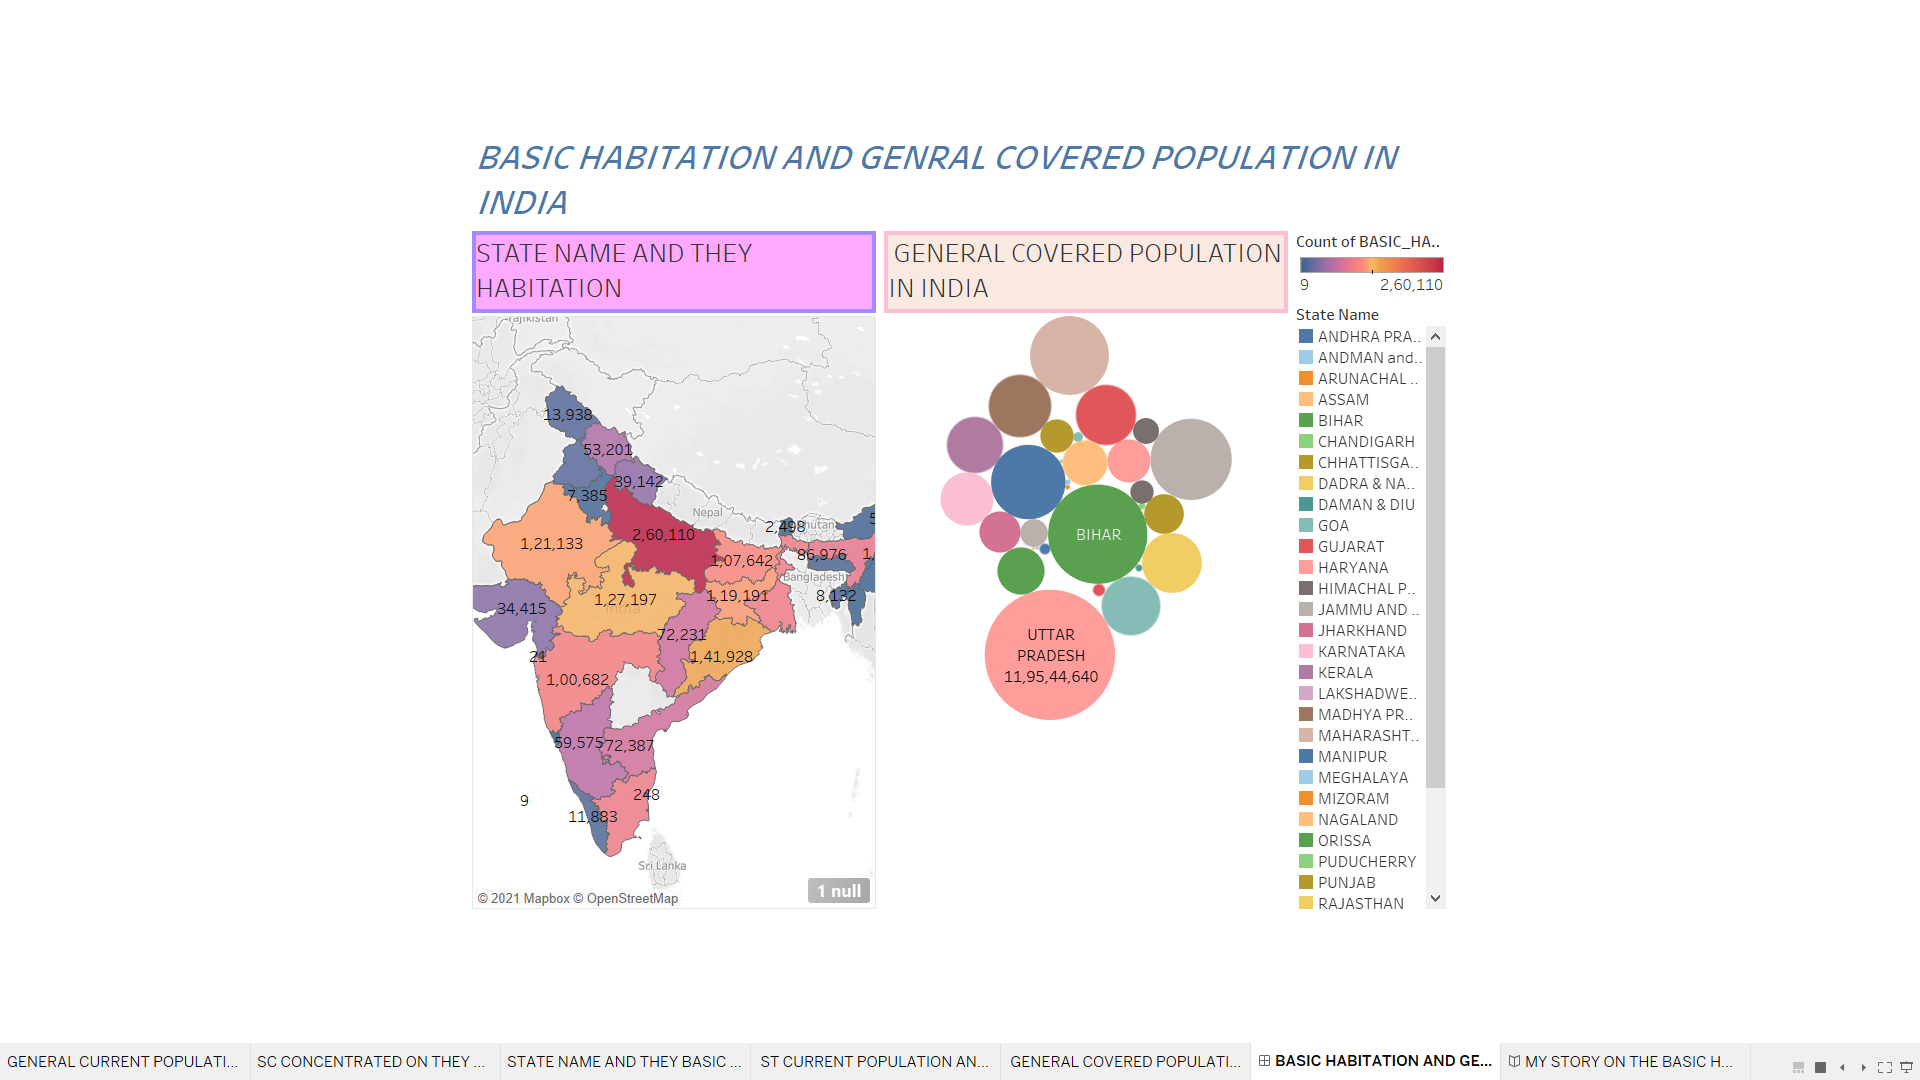

Layout of this report page (visuals, bound fields, positions):
{"tool":"tableau","page":{"name":"BASIC HABITATION AND GENERAL COVERED POPULATION IN INDIA","canvas":[1000,800],"ordinal":0},"visuals":[{"type":"worksheet","box":[0,0,1000,800]},{"type":"worksheet","param":"vert","box":[8,8,984,784]},{"type":"worksheet","box":[8,8,984,98]},{"type":"worksheet","param":"horz","box":[8,106,984,686]},{"type":"worksheet","box":[8,106,824,686]},{"type":"worksheet","title":"STATE NAME AND THEY BASIC HABITATION ","mark":"Automatic","box":[8,106,412,686]},{"type":"worksheet","title":" GENERAL COVERED POPULATION IN INDIA ","mark":"Circle","box":[420,106,412,686]},{"type":"worksheet","param":"vert","box":[832,106,160,686]},{"type":"worksheet","title":"STATE NAME AND THEY BASIC HABITATION ","mark":"Automatic","param":"[federated.0d2pf471bhg4r80zlwse40iyu0eu].[__tableau_internal_object_id__].[cnt:B","box":[832,106,160,73]},{"type":"worksheet","title":" GENERAL COVERED POPULATION IN INDIA ","mark":"Circle","param":"[federated.0d2pf471bhg4r80zlwse40iyu0eu].[none:State Name:nk]","box":[832,179,160,613]}]}

Visuals, with their boxes on the page's 1000x800 design canvas (x1, y1, x2, y2). These are canvas units, not pixel positions in the 1920x1080 screenshot, which may show the page scaled, cropped or inside an application window:
worksheet: x1=0 y1=0 x2=1000 y2=800
worksheet: x1=8 y1=8 x2=992 y2=792
worksheet: x1=8 y1=8 x2=992 y2=106
worksheet: x1=8 y1=106 x2=992 y2=792
worksheet: x1=8 y1=106 x2=832 y2=792
"STATE NAME AND THEY BASIC HABITATION " worksheet: x1=8 y1=106 x2=420 y2=792
" GENERAL COVERED POPULATION IN INDIA " worksheet (Circle marks): x1=420 y1=106 x2=832 y2=792
worksheet: x1=832 y1=106 x2=992 y2=792
"STATE NAME AND THEY BASIC HABITATION " worksheet: x1=832 y1=106 x2=992 y2=179
" GENERAL COVERED POPULATION IN INDIA " worksheet (Circle marks): x1=832 y1=179 x2=992 y2=792
